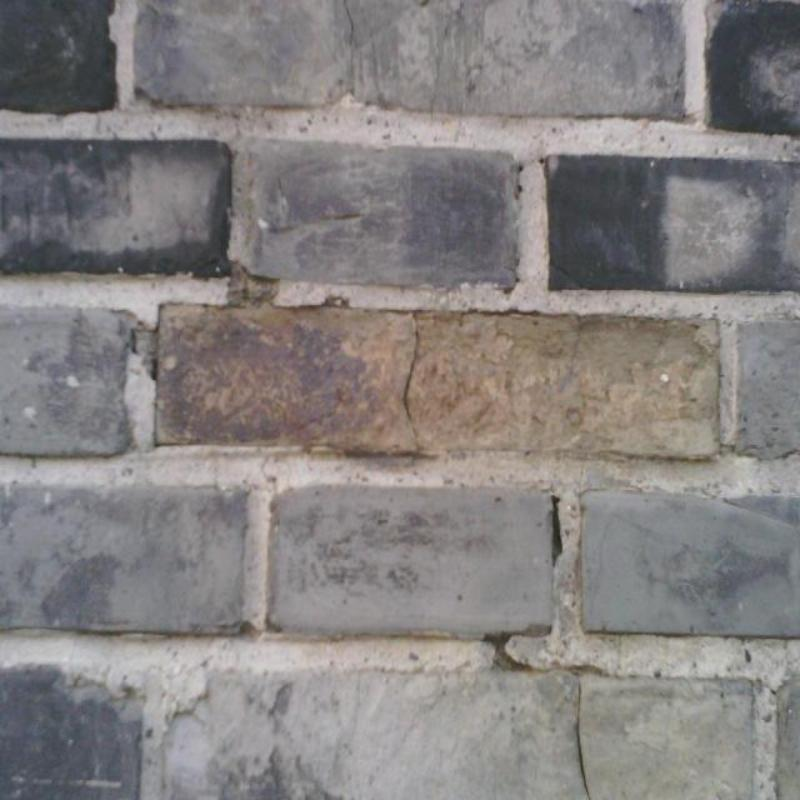pothole: (403, 315, 421, 422), (576, 681, 592, 799), (488, 635, 538, 671), (551, 496, 562, 566), (130, 329, 155, 354), (342, 0, 355, 45), (151, 360, 158, 382)
